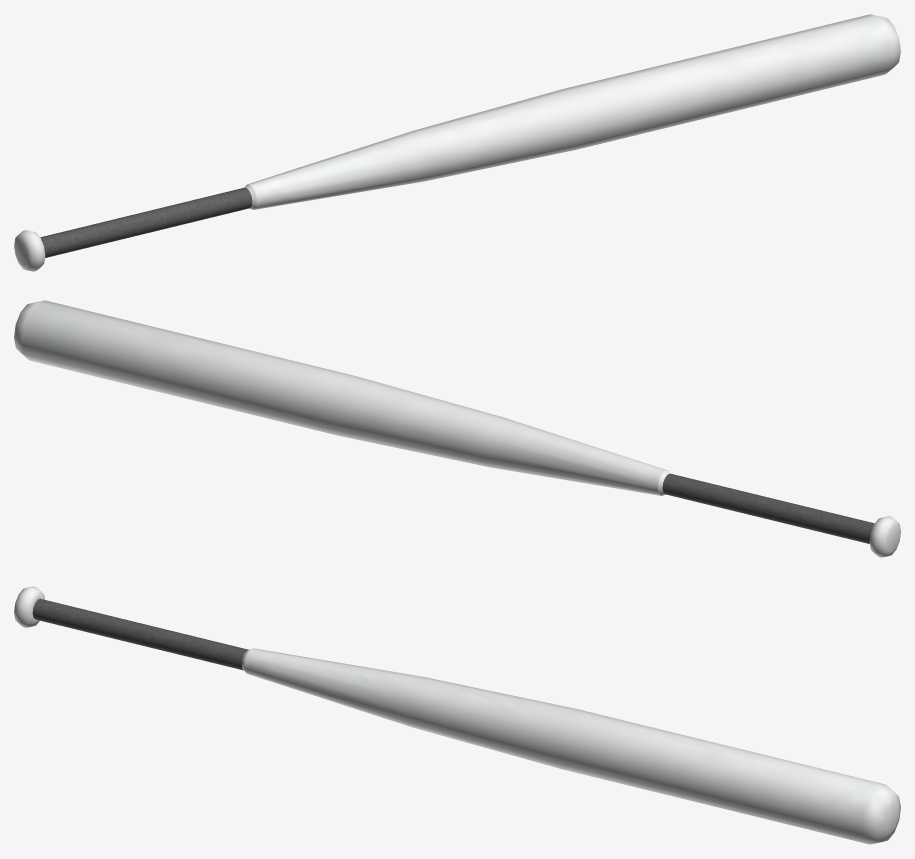
File: aluminum_bat.glb
3 views of the same model, one above another, from view 1: azimuth 30°, elevation 25°; view 2: azimuth 150°, elevation 25°; view 3: azimuth 330°, elevation 25° (orthographic).
Visible parts, largest first — view 1: tool; view 2: tool; view 3: tool.
Part boxes in pixels (x1,y1,x2,y2): tool: (14, 14, 900, 271); tool: (14, 300, 900, 557); tool: (14, 586, 900, 844).
Size of the model in its own units: 1 by 0.062 by 0.0619.
1 material, 1 textured.
